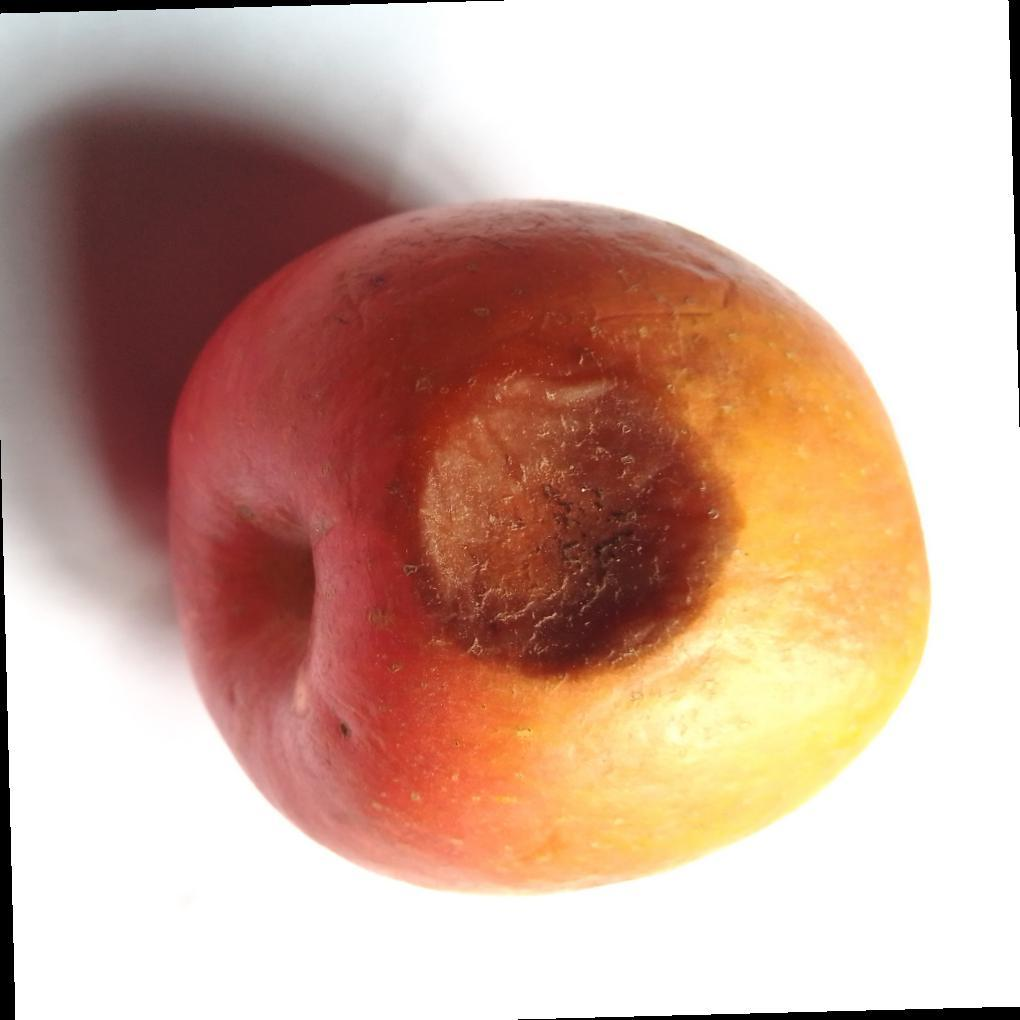FreshOrange: (165, 199, 934, 900)
